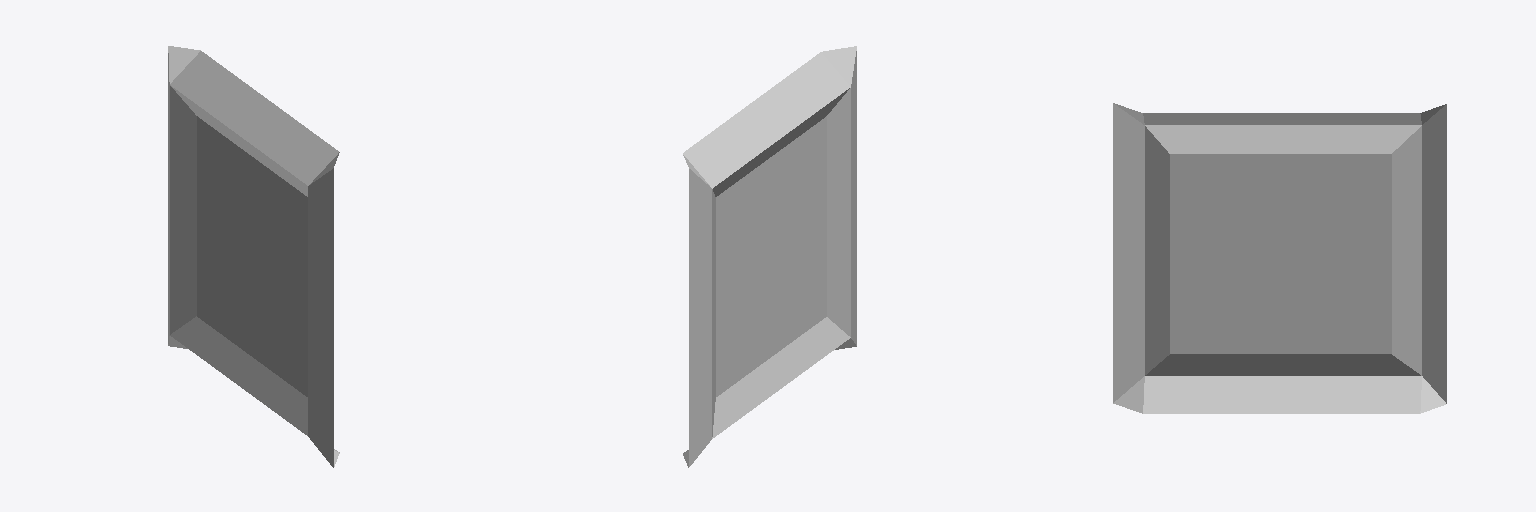
Rendered from hole.obj.
3 views of the same model, side by side, from view 1: azimuth 30°, elevation 25°; view 2: azimuth 150°, elevation 25°; view 3: azimuth 270°, elevation 25° (orthographic).
Visible parts, largest first — view 1: Plane04; view 2: Plane04; view 3: Plane04.
Part boxes in pixels (bbox=[...]): Plane04: bbox=[168, 46, 339, 467]; Plane04: bbox=[683, 46, 856, 467]; Plane04: bbox=[1113, 103, 1446, 413].
Bounding box in the file's own units: 8.5 × 79.5 × 80.08.